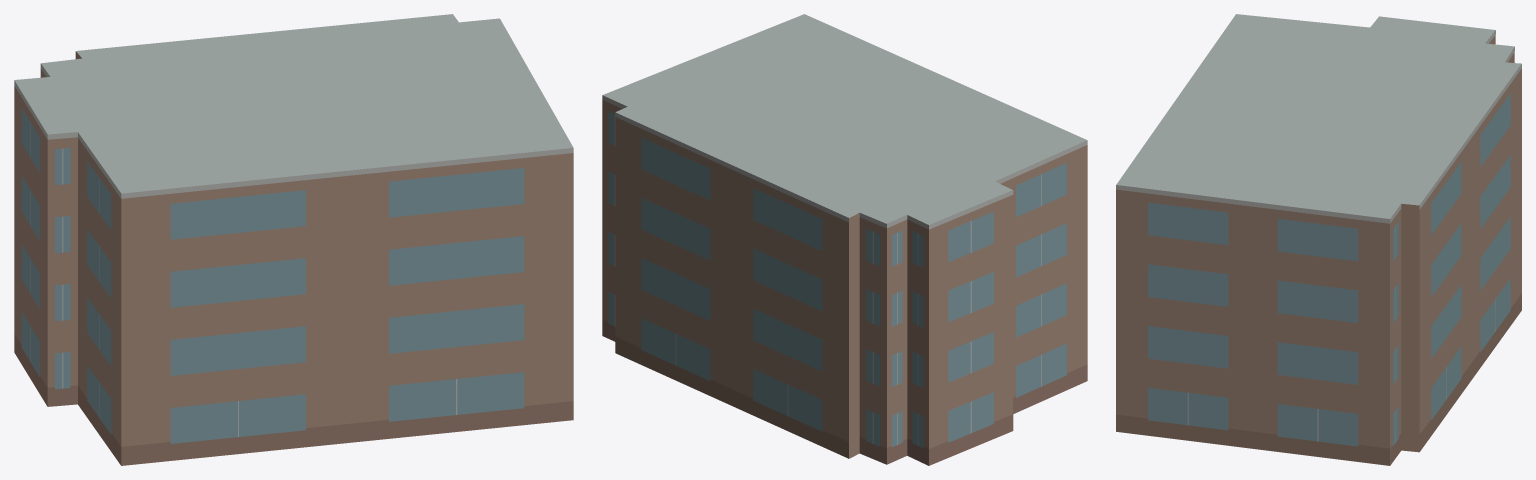
Rendered from survey-upis-33031192.glb.
3 renders of one model, left to right at view 1: azimuth 30°, elevation 25°; view 2: azimuth 150°, elevation 25°; view 3: azimuth 270°, elevation 25°, orthographic. The views are drawn at different scales.
Parts seen in each view (by area): view 1: survey-upis-33031192.tmp; view 2: survey-upis-33031192.tmp; view 3: survey-upis-33031192.tmp.
Boxes of the visible parts, bbox=[...] form: survey-upis-33031192.tmp: bbox=[14, 14, 573, 465]; survey-upis-33031192.tmp: bbox=[602, 14, 1087, 465]; survey-upis-33031192.tmp: bbox=[1116, 14, 1521, 465].
Size of the model in its own units: 22.98 by 12.89 by 19.21.
